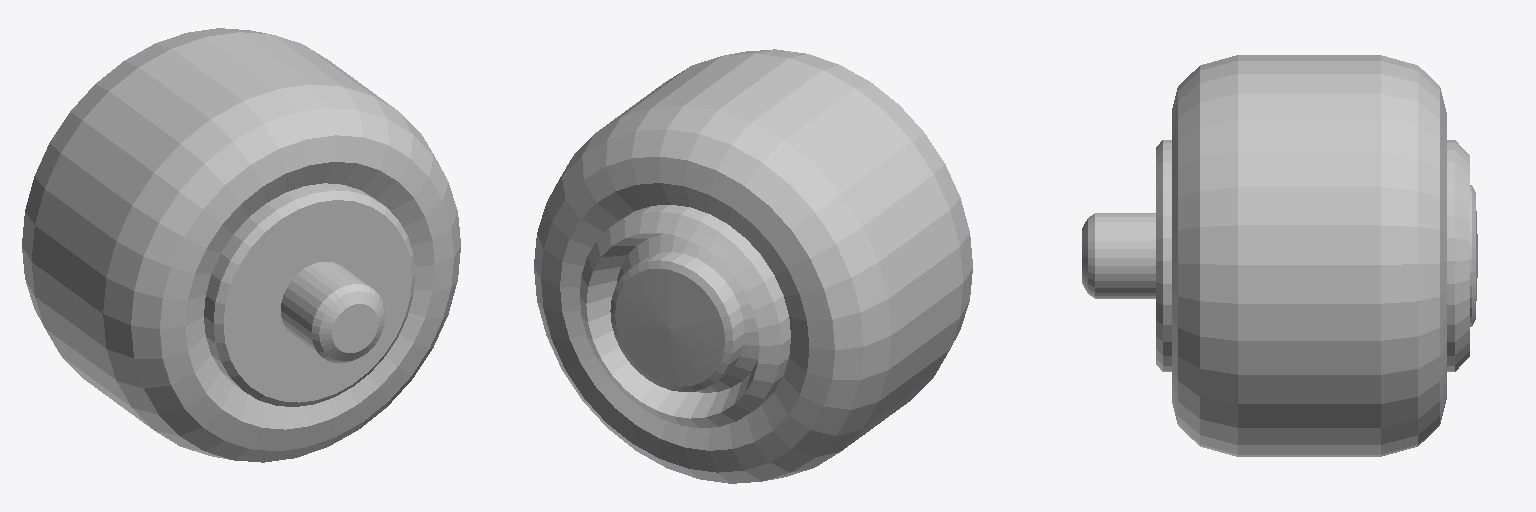
The model's file is penguin_wheel4.obj.
The picture shows the model from 3 angles: view 1: azimuth 30°, elevation 25°; view 2: azimuth 150°, elevation 25°; view 3: azimuth 270°, elevation 25°; orthographic projection.
Visible parts, largest first — view 1: bigwheel_low; view 2: bigwheel_low; view 3: bigwheel_low.
Boxes of the visible parts, x1,y1,x2,y2 form: bigwheel_low: [22, 28, 460, 462]; bigwheel_low: [534, 49, 972, 483]; bigwheel_low: [1082, 55, 1477, 456].
Bounding box in the file's own units: 0.7295 × 0.7295 × 0.7197.